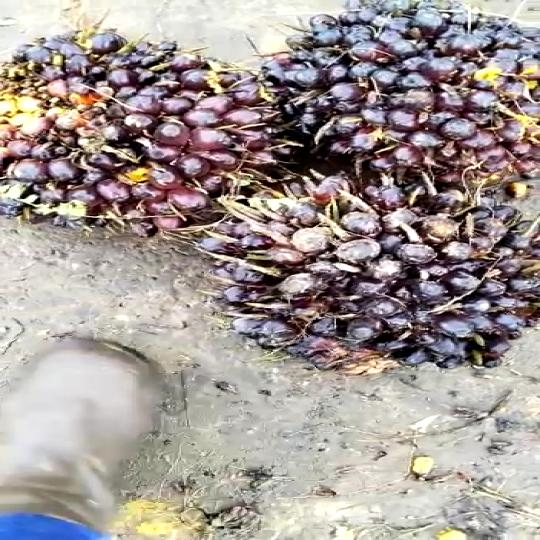mentah: (182, 165, 528, 377), (4, 23, 299, 233), (268, 0, 540, 208)
